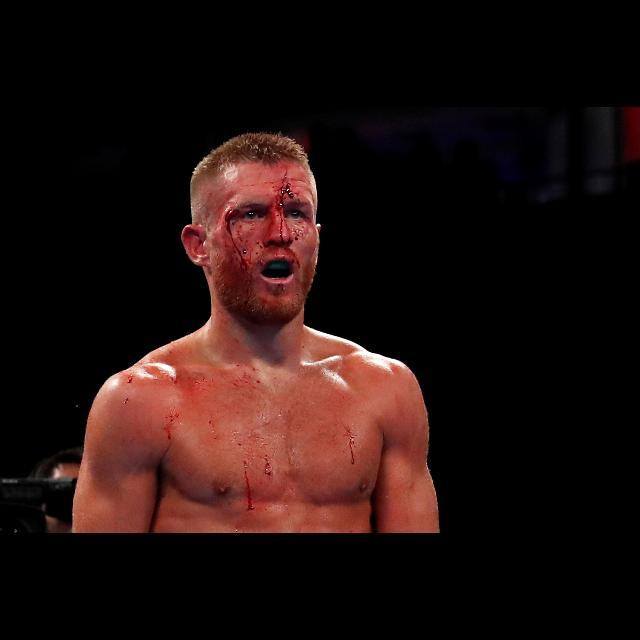blood: (117, 362, 384, 512), (207, 161, 319, 281)
